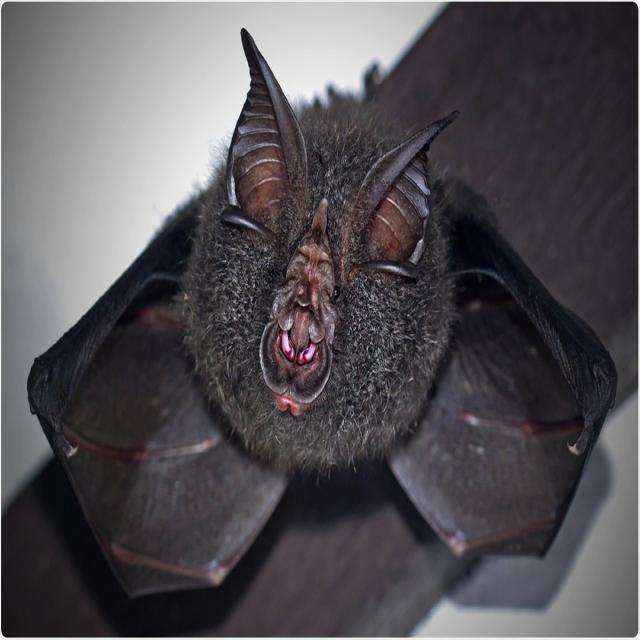Bat: (30, 60, 608, 605)
